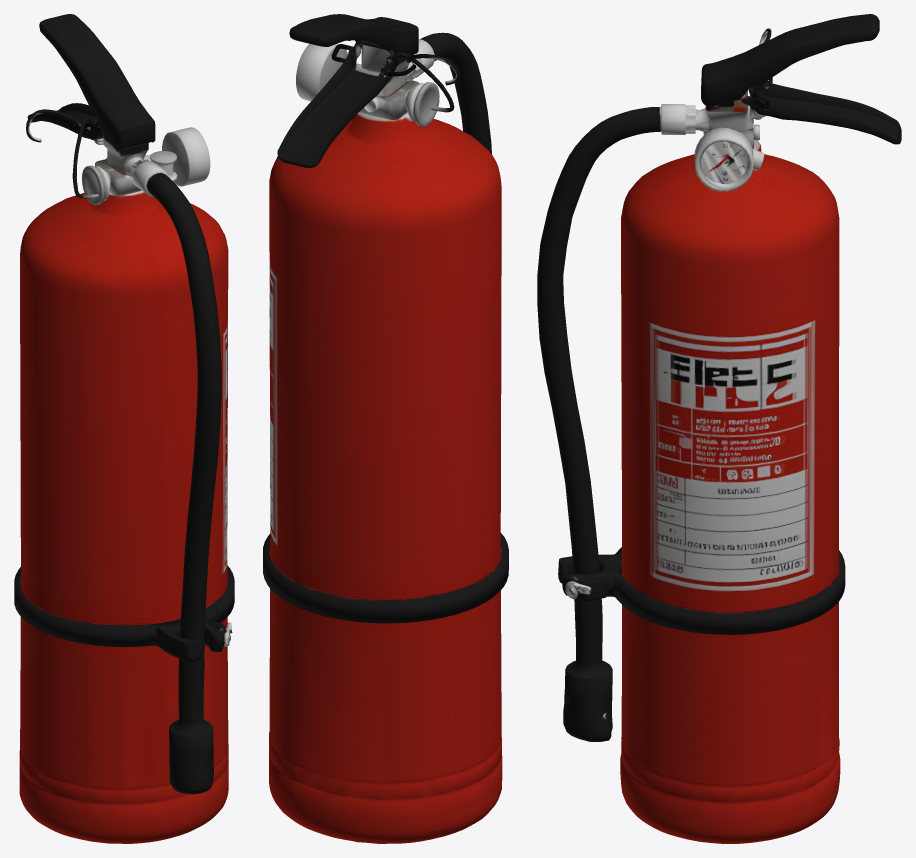
3 views of the same model, side by side, from view 1: azimuth 30°, elevation 25°; view 2: azimuth 150°, elevation 25°; view 3: azimuth 270°, elevation 25° (orthographic). The views are drawn at different scales.
Visible parts, largest first — view 1: tripo_node_e246f9ca; view 2: tripo_node_e246f9ca; view 3: tripo_node_e246f9ca.
Part boxes in pixels (x1,y1,x2,y2): tripo_node_e246f9ca: (14, 14, 234, 843); tripo_node_e246f9ca: (263, 14, 508, 843); tripo_node_e246f9ca: (537, 14, 901, 843).
Bounding box in the file's own units: 0.269 × 0.9995 × 0.4194.
Materials: 1 (1 with a texture image).
